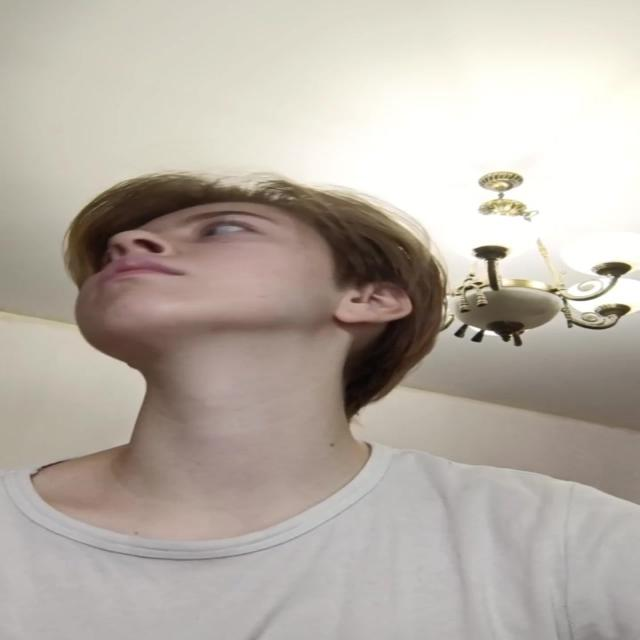earlobe: (334, 282, 416, 322)
